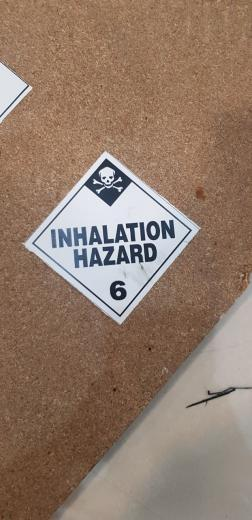poison: (26, 154, 201, 322)
